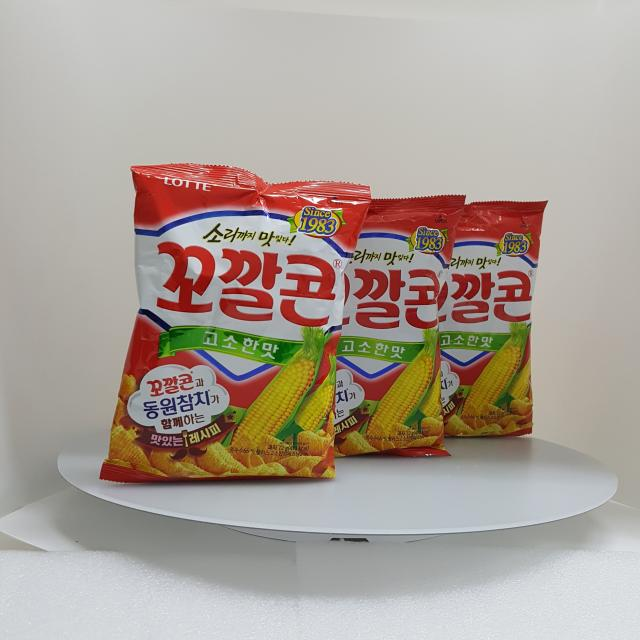-72G: (101, 164, 372, 484), (278, 195, 467, 458), (388, 201, 549, 438)
